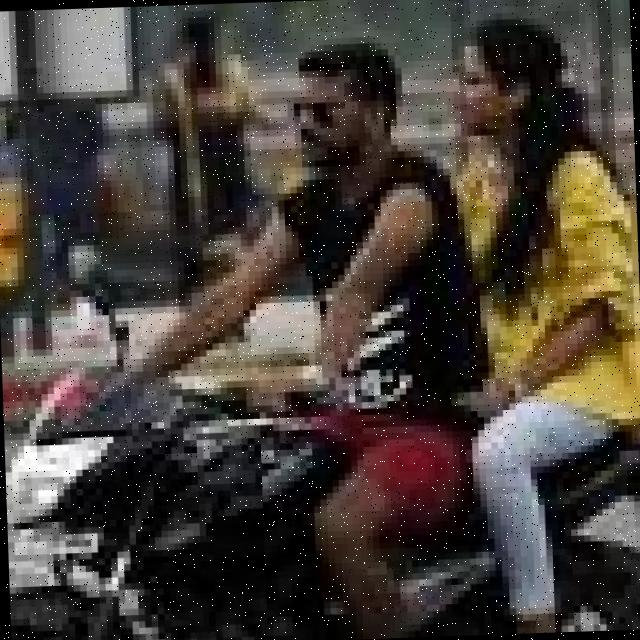No helmet: (275, 18, 430, 216)
